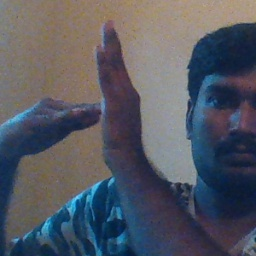Z: (31, 20, 149, 173)
